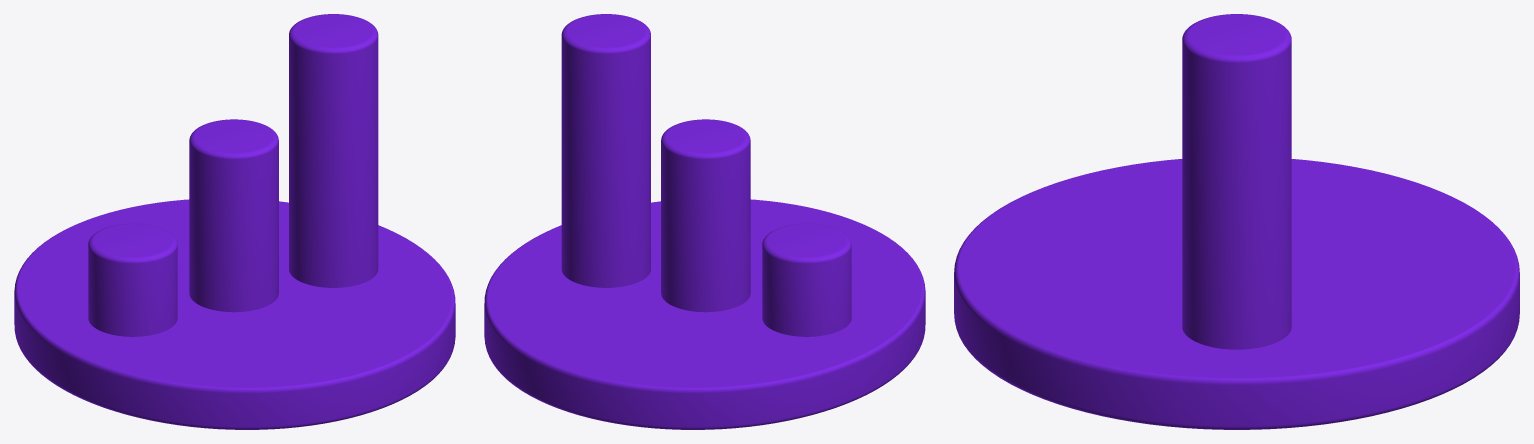
The model's file is diagram.glb.
3 views of the same model, side by side, from view 1: azimuth 30°, elevation 25°; view 2: azimuth 150°, elevation 25°; view 3: azimuth 270°, elevation 25° (orthographic). The views are drawn at different scales.
Visible parts, largest first — view 1: Cylinder.004; view 2: Cylinder.004; view 3: Cylinder.004.
Boxes of the visible parts, <box> form: Cylinder.004: <box>14,14,455,429</box>; Cylinder.004: <box>484,14,925,429</box>; Cylinder.004: <box>954,14,1519,429</box>.
Size of the model in its own units: 26.2 by 18.65 by 27.86.
